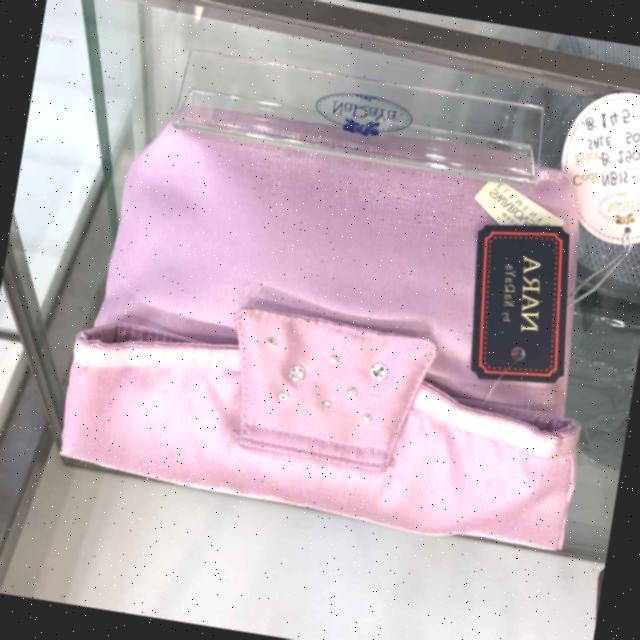handbag: (44, 110, 622, 562)
